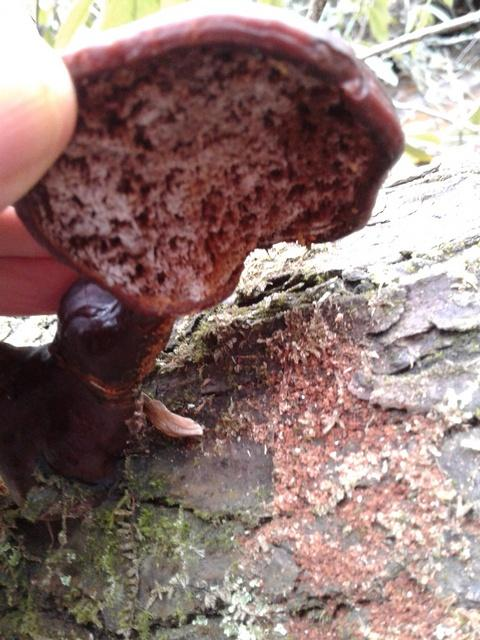Non-edible Mushroom: (28, 2, 392, 483)
